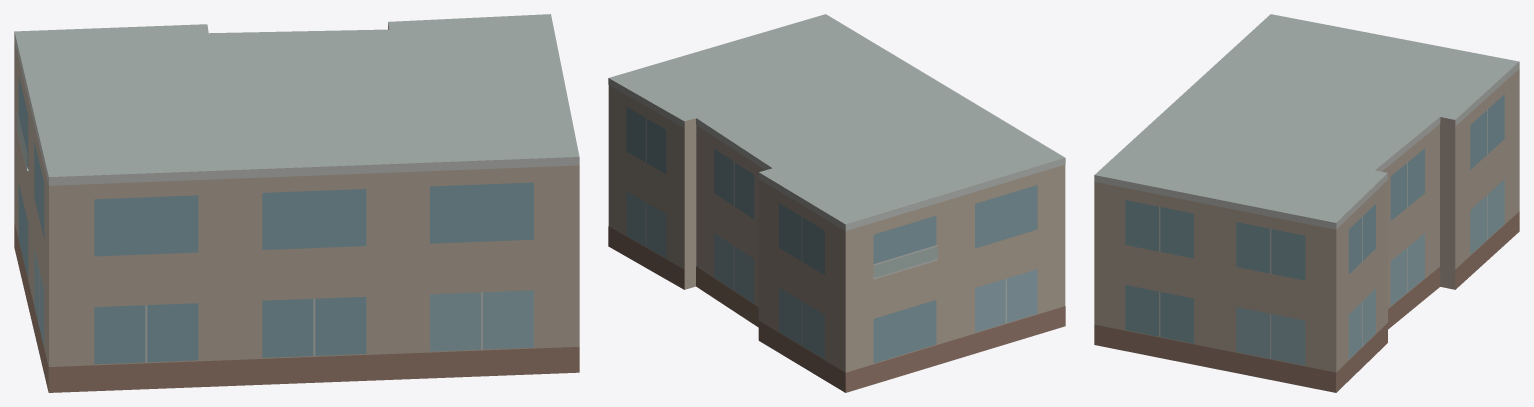
File: survey-upis-32869493.glb
The picture shows the model from 3 angles, left to right: view 1: azimuth 30°, elevation 25°; view 2: azimuth 150°, elevation 25°; view 3: azimuth 270°, elevation 25°; orthographic projection. The views are drawn at different scales.
Visible parts, largest first — view 1: survey-upis-32869493.tmp; view 2: survey-upis-32869493.tmp; view 3: survey-upis-32869493.tmp.
Part boxes in pixels (bbox=[...]): survey-upis-32869493.tmp: bbox=[14, 14, 579, 392]; survey-upis-32869493.tmp: bbox=[608, 14, 1065, 392]; survey-upis-32869493.tmp: bbox=[1094, 14, 1519, 392].
Bounding box in the file's own units: 16.1 × 6.1 × 13.85.
